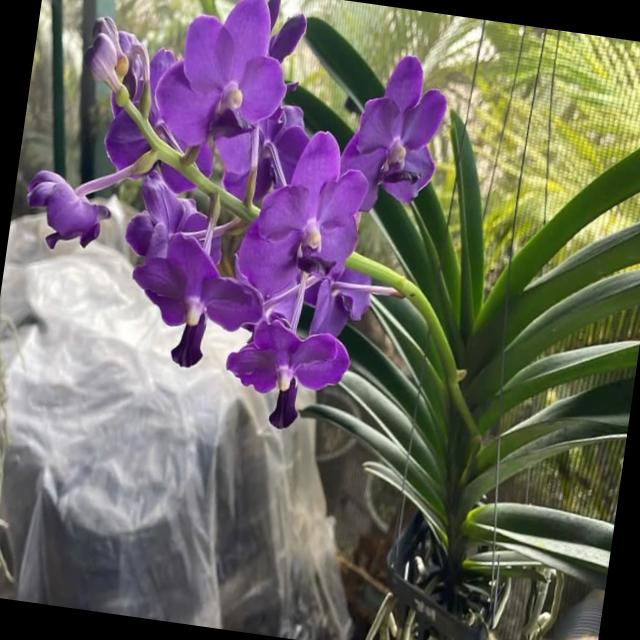flower: (154, 0, 307, 201), (237, 133, 368, 319), (134, 235, 264, 366), (344, 53, 446, 200), (229, 318, 349, 395), (25, 171, 109, 248), (88, 17, 149, 102), (255, 106, 310, 200), (310, 268, 371, 336)
leaf: (511, 148, 640, 293), (508, 223, 640, 337), (506, 270, 640, 376), (501, 378, 634, 480), (468, 502, 614, 582), (340, 361, 436, 465), (503, 341, 640, 406), (373, 298, 447, 416), (308, 16, 385, 115), (318, 407, 406, 488), (305, 17, 384, 106), (375, 191, 437, 298), (411, 183, 461, 310), (341, 327, 415, 409), (460, 142, 487, 323), (404, 455, 443, 533), (469, 441, 496, 501), (302, 97, 347, 132), (473, 315, 500, 361)
root: (522, 567, 564, 640), (366, 592, 414, 640), (378, 597, 394, 640), (403, 613, 414, 640)
